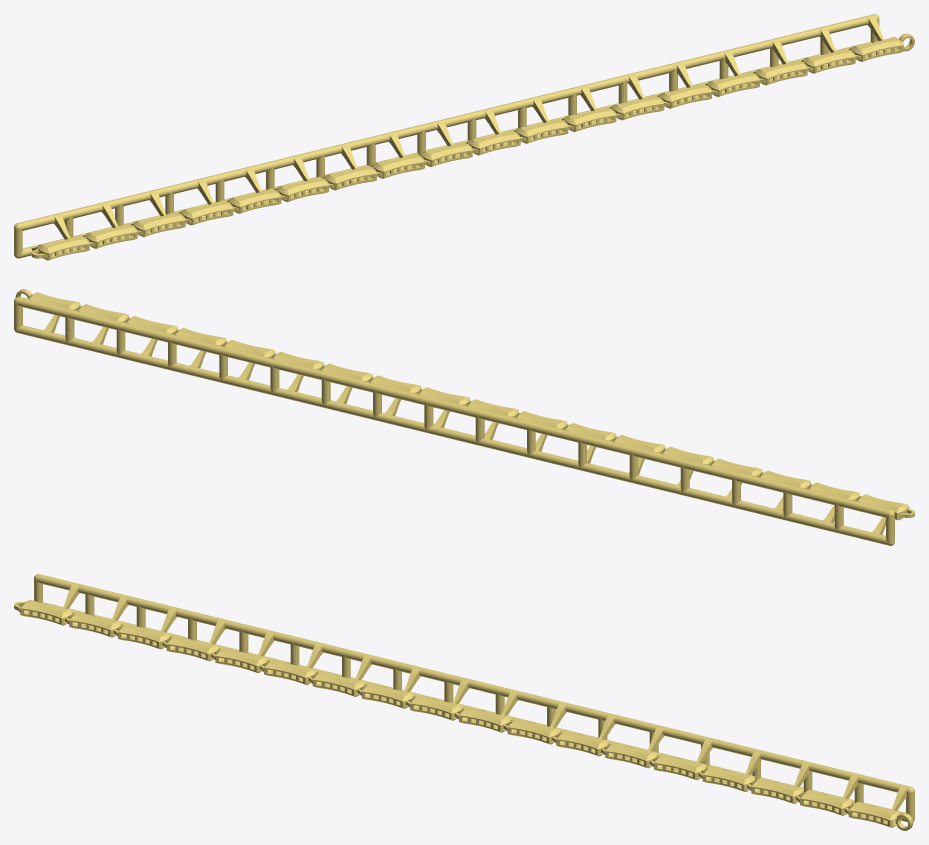
The model's file is yzn5-107.glb.
The picture shows the model from 3 angles, top to bottom: view 1: azimuth 30°, elevation 25°; view 2: azimuth 150°, elevation 25°; view 3: azimuth 330°, elevation 25°; orthographic projection.
Parts seen in each view (by area): view 1: Renderer Node; view 2: Renderer Node; view 3: Renderer Node.
Boxes of the visible parts, box(x1,y1,x2,y2) form: Renderer Node: box(14, 14, 914, 260); Renderer Node: box(14, 289, 914, 545); Renderer Node: box(14, 574, 914, 830).
Bounding box in the file's own units: 175 × 6.56 × 9.09.
